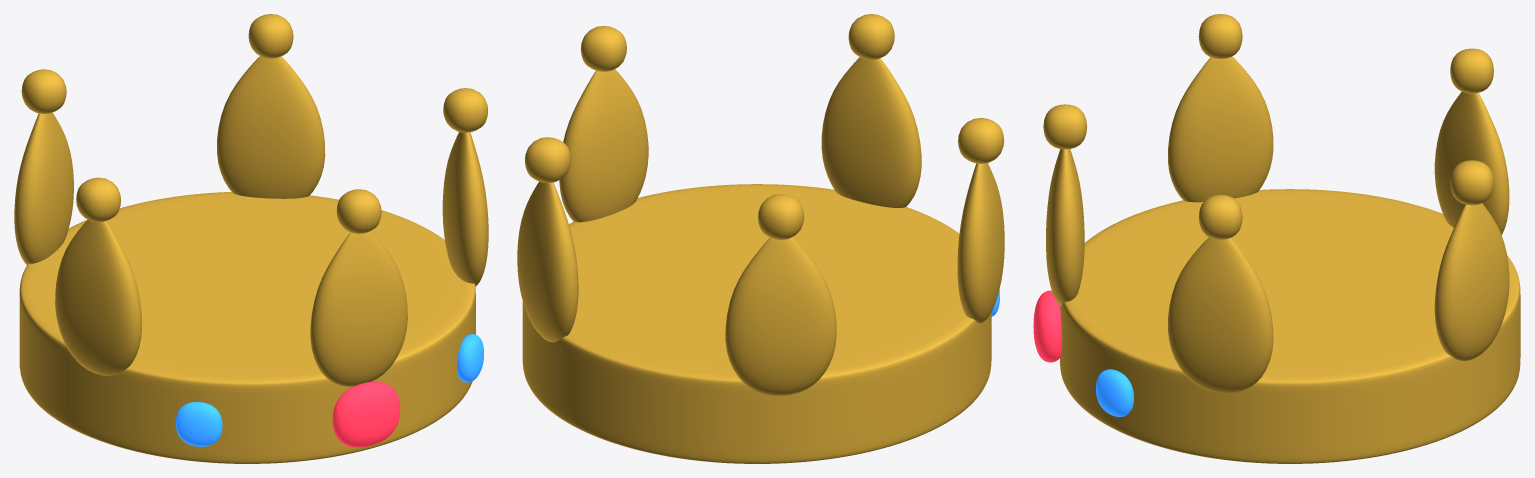
The model's file is crown.glb.
3 renders of one model, left to right at view 1: azimuth 30°, elevation 25°; view 2: azimuth 150°, elevation 25°; view 3: azimuth 270°, elevation 25°, orthographic. The views are drawn at different scales.
Visible parts, largest first — view 1: ACC_crown_band, ACC_crown_point2, ACC_crown_point0, ACC_crown_point4, ACC_crown_point3, ACC_crown_point1, ACC_crown_gem, ACC_crown_gem_side, ACC_crown_ball0, ACC_crown_ball2, ACC_crown_ball1, ACC_crown_ball3 (+2 smaller); view 2: ACC_crown_band, ACC_crown_point3, ACC_crown_point0, ACC_crown_point1, ACC_crown_point2, ACC_crown_point4, ACC_crown_ball0, ACC_crown_ball4, ACC_crown_ball2, ACC_crown_ball1, ACC_crown_ball3; view 3: ACC_crown_band, ACC_crown_point1, ACC_crown_point4, ACC_crown_point2, ACC_crown_point3, ACC_crown_point0, ACC_crown_gem, ACC_crown_ball2, ACC_crown_ball3, ACC_crown_ball0, ACC_crown_ball1, ACC_crown_ball4 (+1 smaller).
Part boxes in pixels (x1,y1,x2,y2): ACC_crown_band: (19,192,475,463); ACC_crown_point2: (217,56,325,198); ACC_crown_point0: (310,231,407,386); ACC_crown_point4: (55,220,141,375); ACC_crown_point3: (14,112,73,264); ACC_crown_point1: (442,132,488,286); ACC_crown_gem: (332,381,400,447); ACC_crown_gem_side: (175,402,222,446); ACC_crown_ball0: (336,189,381,233); ACC_crown_ball2: (248,14,293,58); ACC_crown_ball1: (443,88,488,132); ACC_crown_ball3: (21,69,66,113); ACC_crown_band: (522,184,991,463); ACC_crown_point3: (725,237,836,395); ACC_crown_point0: (821,57,921,207); ACC_crown_point1: (559,69,648,222); ACC_crown_point2: (517,181,578,342); ACC_crown_point4: (957,163,1004,323); ACC_crown_ball0: (848,14,894,59); ACC_crown_ball4: (958,118,1004,163); ACC_crown_ball2: (525,137,570,182); ACC_crown_ball1: (580,26,626,71); ACC_crown_ball3: (758,194,803,239); ACC_crown_band: (1060,189,1520,463); ACC_crown_point1: (1168,237,1273,393); ACC_crown_point4: (1168,56,1273,202); ACC_crown_point2: (1434,203,1509,360); ACC_crown_point3: (1434,92,1509,234); ACC_crown_point0: (1046,149,1084,305); ACC_crown_gem: (1033,290,1061,362); ACC_crown_ball2: (1450,160,1493,205); ACC_crown_ball3: (1450,48,1493,93); ACC_crown_ball0: (1043,104,1087,149); ACC_crown_ball1: (1198,194,1242,239); ACC_crown_ball4: (1198,14,1242,58).
Size of the model in its own units: 0.6221 by 0.3734 by 0.6302.
